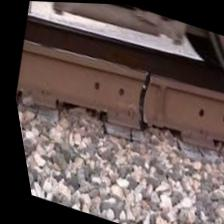person: (81, 46, 195, 150)
